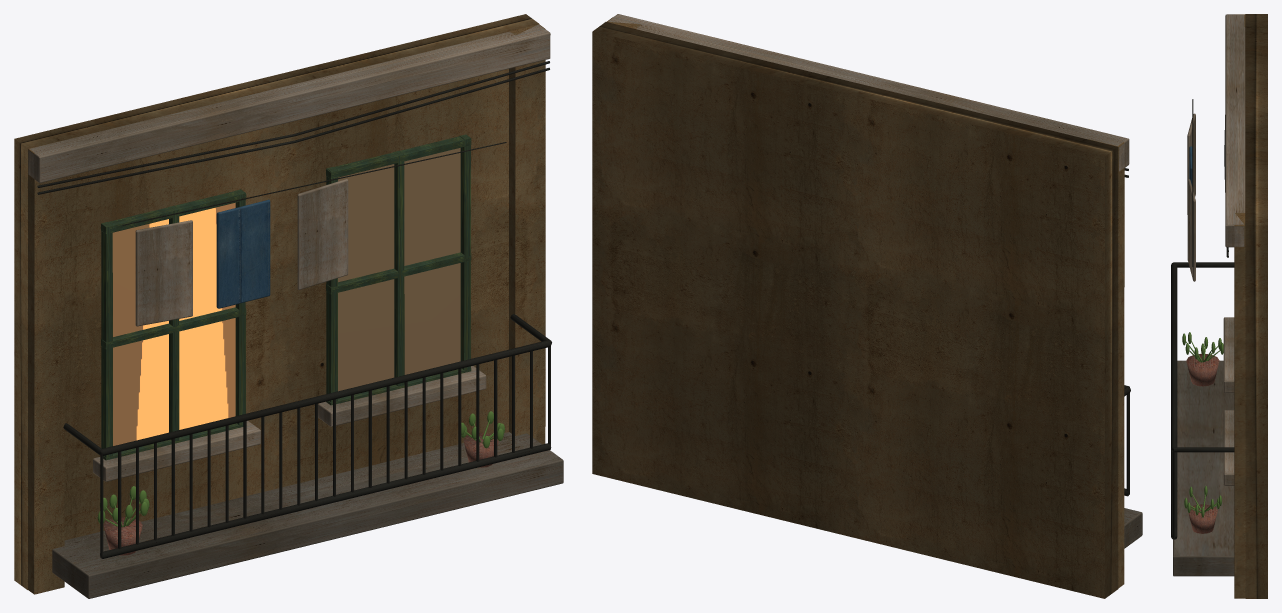
The model's file is mat_tien_tang_01.glb.
3 renders of one model, left to right at view 1: azimuth 30°, elevation 25°; view 2: azimuth 150°, elevation 25°; view 3: azimuth 270°, elevation 25°, orthographic. The views are drawn at different scales.
Parts seen in each view (by area): view 1: mat_tien_tang_01.001; view 2: mat_tien_tang_01.001; view 3: mat_tien_tang_01.001.
Boxes of the visible parts, bbox=[...] form: mat_tien_tang_01.001: bbox=[14, 14, 563, 598]; mat_tien_tang_01.001: bbox=[592, 14, 1142, 598]; mat_tien_tang_01.001: bbox=[1171, 14, 1267, 598].
Bounding box in the file's own units: 4 × 3.3 × 0.775.
3 materials, 2 textured.
